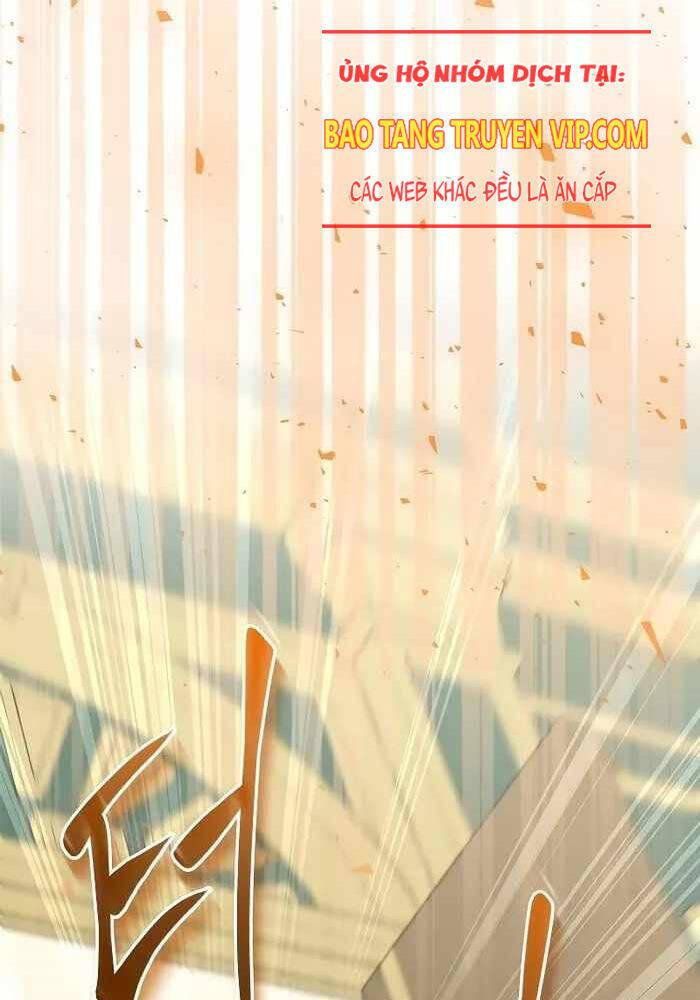quangcao: (323, 27, 654, 233)
